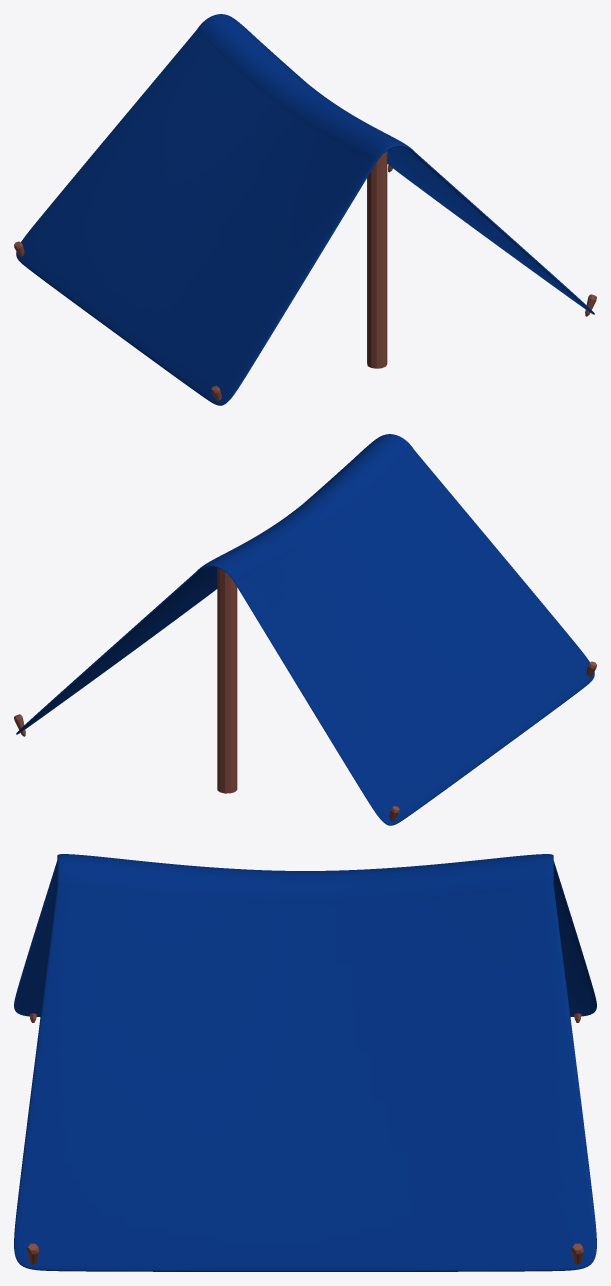
The model's file is tent.fbx.
The picture shows the model from 3 angles, top to bottom: view 1: azimuth 30°, elevation 25°; view 2: azimuth 150°, elevation 25°; view 3: azimuth 270°, elevation 25°; orthographic projection. The views are drawn at different scales.
Visible parts, largest first — view 1: Plane, Cylinder.002; view 2: Plane, Cylinder.001; view 3: Plane, Cylinder.
Part boxes in pixels (<box>): Plane: <box>16,14,594,405</box>; Cylinder.002: <box>367,151,387,368</box>; Plane: <box>16,434,594,825</box>; Cylinder.001: <box>217,567,237,793</box>; Plane: <box>14,854,596,1271</box>; Cylinder: <box>27,1013,583,1264</box>.
Size of the model in its own units: 246 by 142 by 234.
